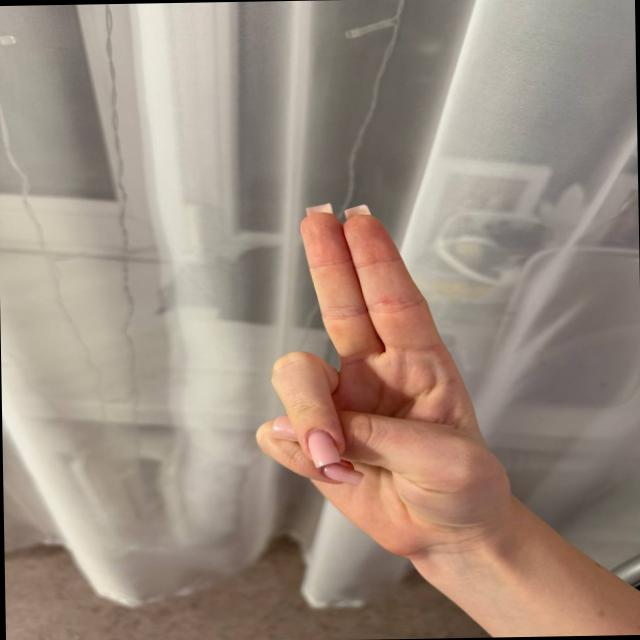ts: (224, 191, 524, 530)
